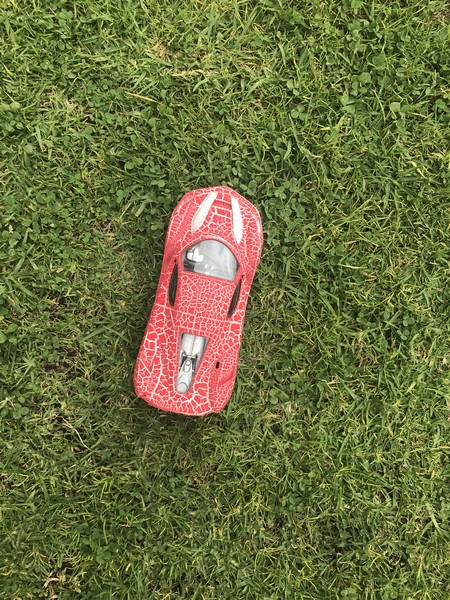RC: (132, 184, 267, 421)
